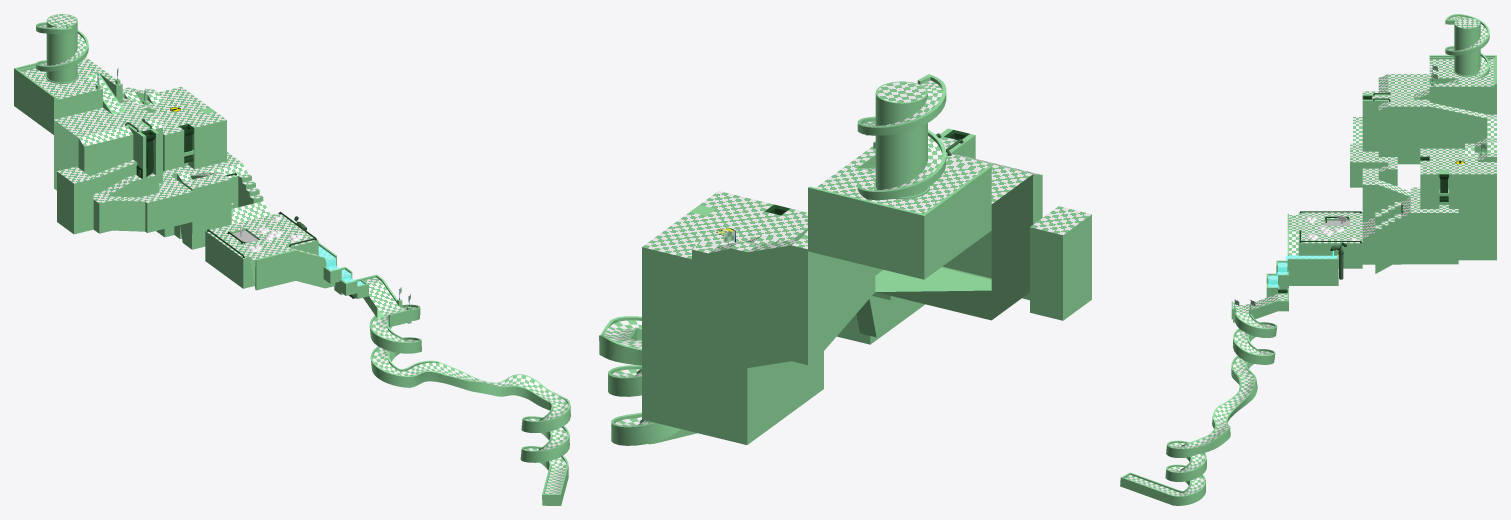
Rendered from _nusedrace.fbx.
3 renders of one model, left to right at view 1: azimuth 30°, elevation 25°; view 2: azimuth 150°, elevation 25°; view 3: azimuth 270°, elevation 25°, orthographic. The views are drawn at different scales.
Parts seen in each view (by area): view 1: Box04, LEVEL, Flooring04, Flooring03, Box08, Flooring, subobject1, Start Cylinder, Spiral Ramp, subobject2; view 2: Box04, Flooring04, LEVEL, Start Cylinder, Flooring, Flooring03, Spiral Ramp, Object10, Flooring01; view 3: Box04, LEVEL, Flooring04, Flooring03, Box08, Start Cylinder, Flooring, subobject1, Spiral Ramp, T:WATERTIER1 (NOCOLLIDE).
Part boxes in pixels (left/top/right/bottom): Box04: left=14, top=63, right=336, bottom=290; LEVEL: left=369, top=304, right=570, bottom=505; Flooring04: left=57, top=86, right=270, bottom=224; Flooring03: left=54, top=87, right=162, bottom=146; Box08: left=206, top=213, right=318, bottom=258; Flooring: left=21, top=57, right=122, bottom=99; subobject1: left=323, top=266, right=409, bottom=326; Start Cylinder: left=46, top=14, right=77, bottom=82; Spiral Ramp: left=36, top=22, right=88, bottom=71; subobject2: left=364, top=277, right=403, bottom=316; Box04: left=642, top=128, right=1091, bottom=444; Flooring04: left=642, top=191, right=1091, bottom=259; LEVEL: left=599, top=316, right=697, bottom=445; Start Cylinder: left=875, top=81, right=927, bottom=196; Flooring: left=816, top=146, right=982, bottom=213; Flooring03: left=692, top=137, right=1041, bottom=253; Spiral Ramp: left=857, top=74, right=946, bottom=199; Object10: left=862, top=80, right=942, bottom=190; Flooring01: left=877, top=82, right=926, bottom=102; Box04: left=1287, top=55, right=1496, bottom=285; LEVEL: left=1120, top=312, right=1277, bottom=505; Flooring04: left=1350, top=91, right=1496, bottom=238; Flooring03: left=1372, top=74, right=1496, bottom=161; Box08: left=1298, top=212, right=1362, bottom=243; Start Cylinder: left=1454, top=17, right=1480, bottom=75; Flooring: left=1429, top=59, right=1493, bottom=86; subobject1: left=1231, top=260, right=1288, bottom=319; Spiral Ramp: left=1445, top=14, right=1489, bottom=79; T:WATERTIER1 (NOCOLLIDE): left=1268, top=255, right=1336, bottom=289.
Size of the model in its own units: 5934 by 6001 by 5893.
